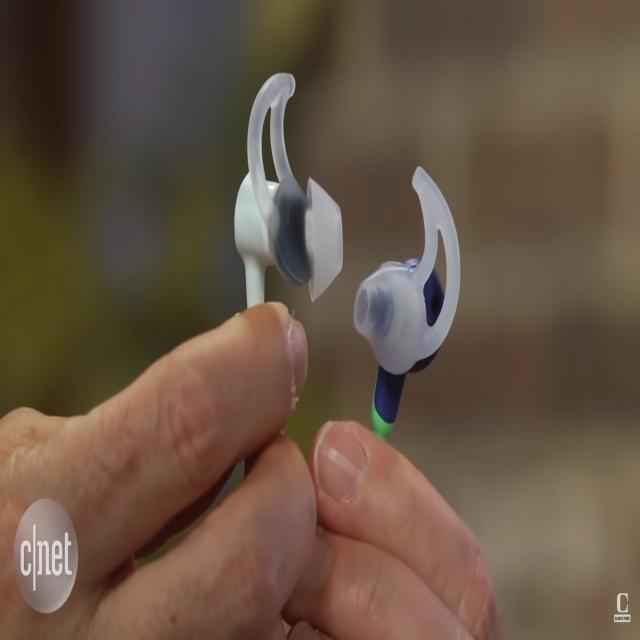Earphone: (233, 72, 463, 444)
